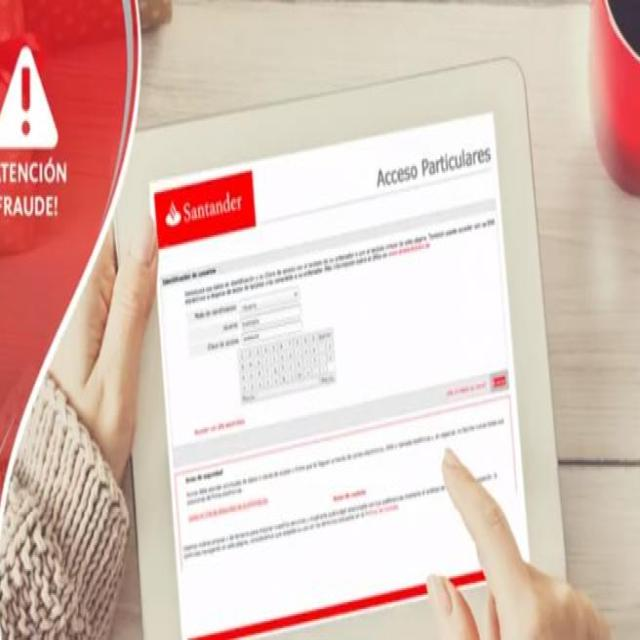santander: (165, 202, 181, 226)
